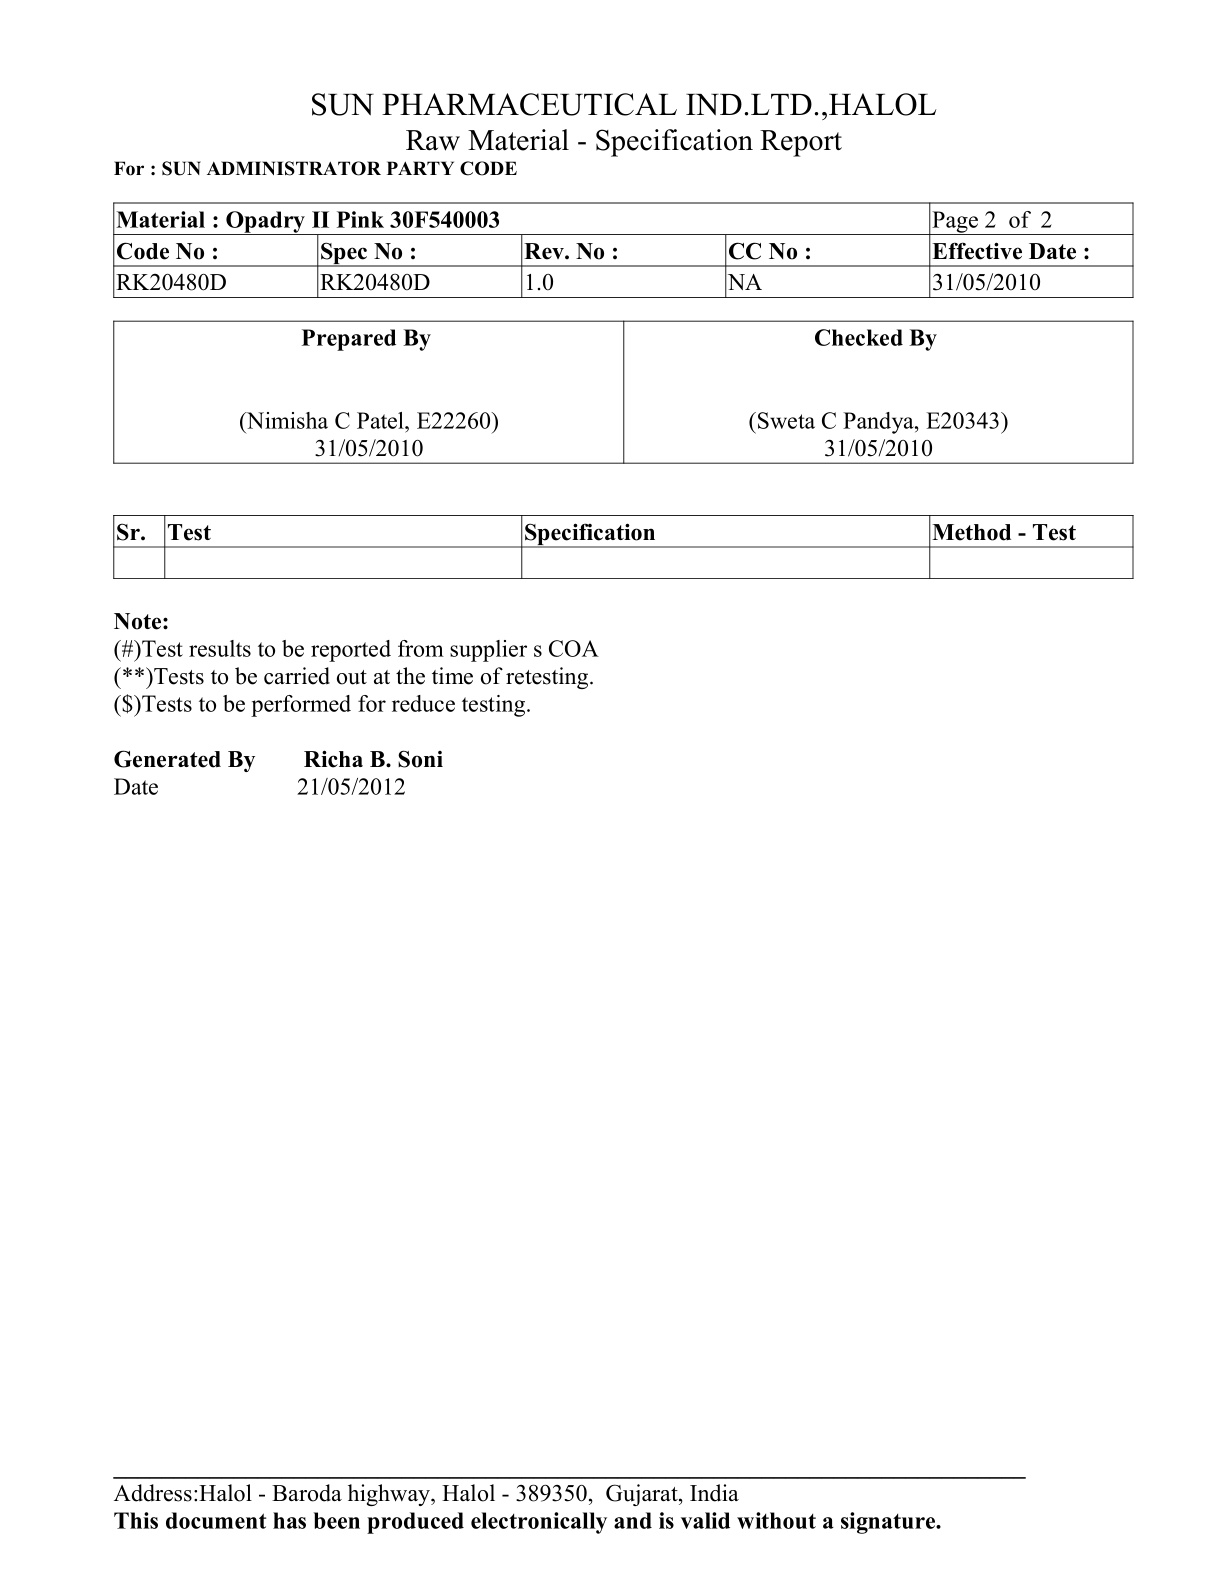full_lined: (112, 319, 1135, 465), (111, 513, 1135, 581)
merged_cells: (112, 201, 1134, 300)
